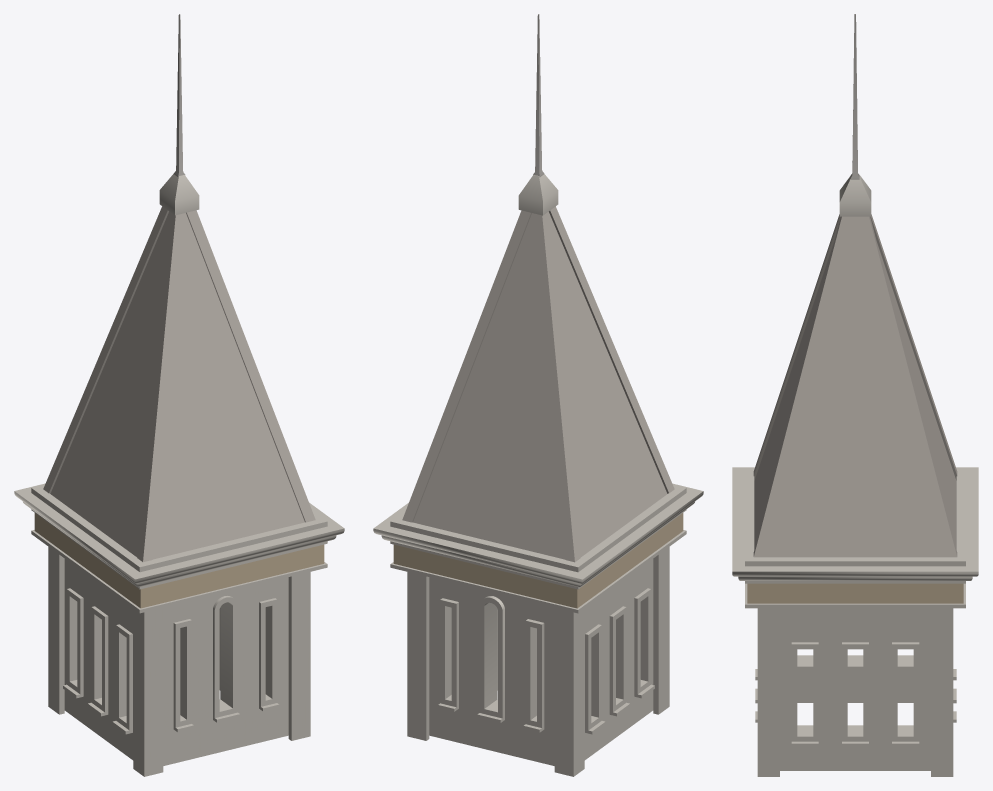
File: kb3d_tower_small.glb
3 renders of one model, left to right at view 1: azimuth 30°, elevation 25°; view 2: azimuth 150°, elevation 25°; view 3: azimuth 270°, elevation 25°, orthographic. The views are drawn at different scales.
Parts seen in each view (by area): view 1: EXPORT_kb3d_tower_small; view 2: EXPORT_kb3d_tower_small; view 3: EXPORT_kb3d_tower_small.
Part boxes in pixels (bbox=[...]): EXPORT_kb3d_tower_small: bbox=[14, 14, 344, 776]; EXPORT_kb3d_tower_small: bbox=[373, 14, 703, 776]; EXPORT_kb3d_tower_small: bbox=[732, 14, 978, 776].
Size of the model in its own units: 4.37 by 14.11 by 4.37.
